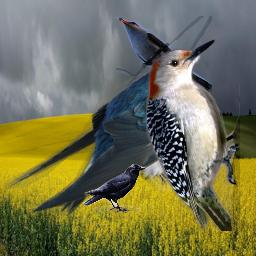Crow: (83, 164, 145, 213)
Cuckoo: (116, 16, 212, 91)
Swallow: (5, 67, 210, 216)
Woodpecker: (146, 39, 240, 231)
